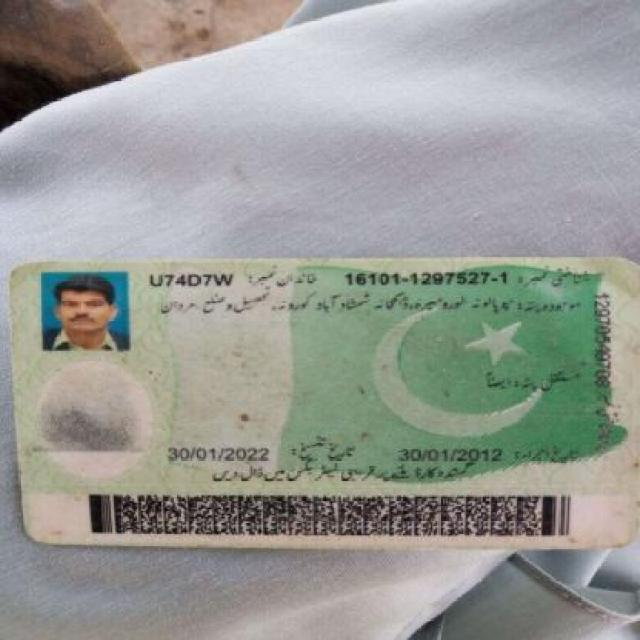Back: (6, 254, 634, 557)
